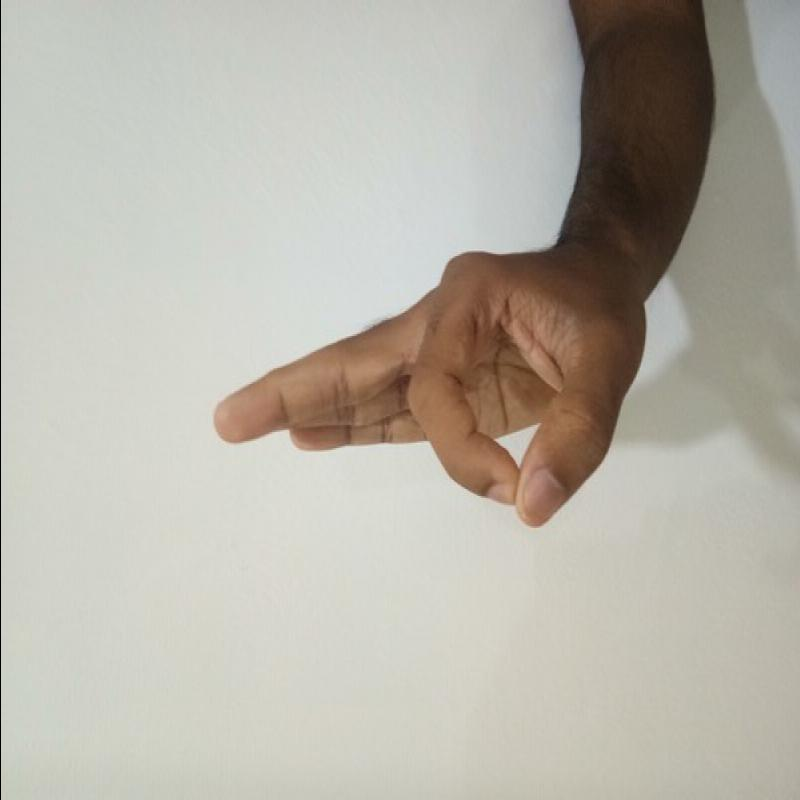Mudraakhyam: (195, 240, 657, 538)
